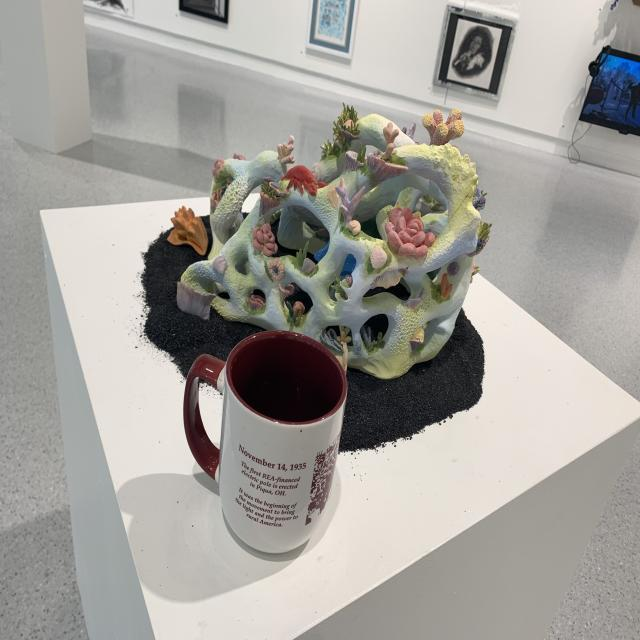Cup: (182, 329, 352, 562)
